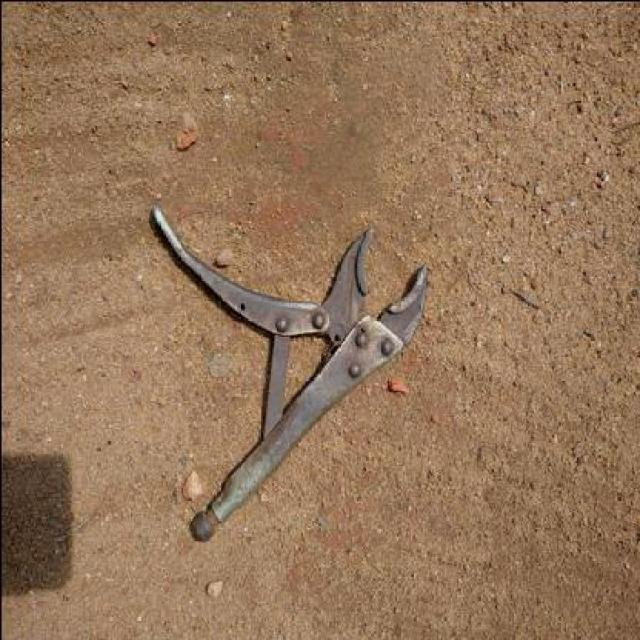pliers: (140, 204, 431, 541)
